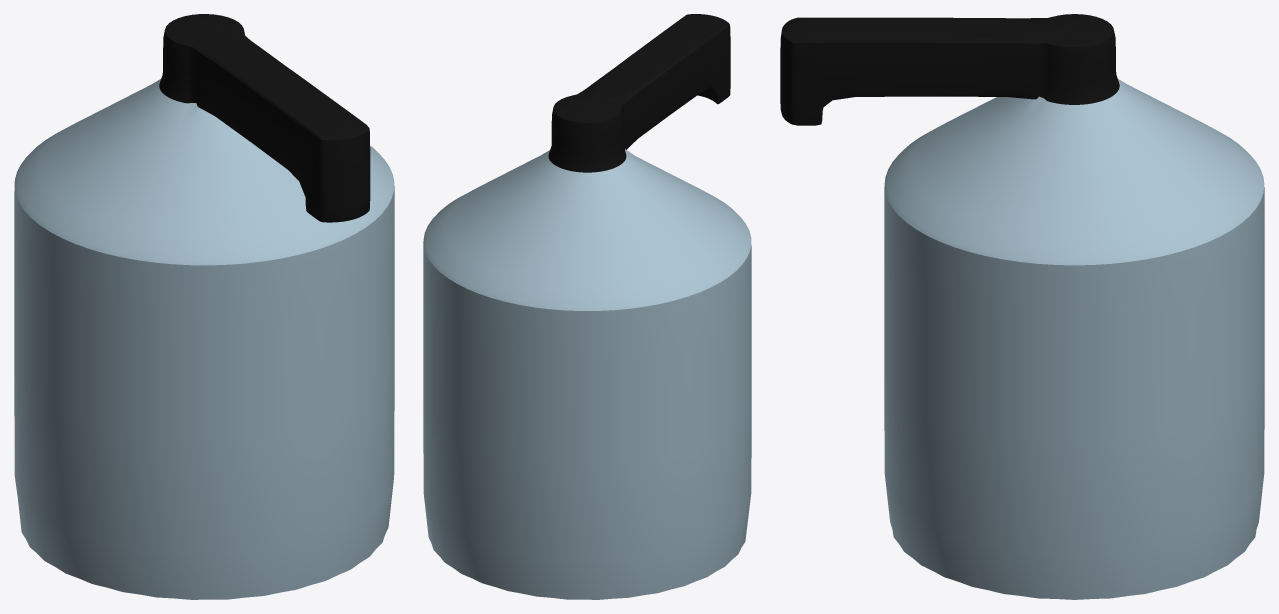
The model's file is lubber.glb.
3 views of the same model, side by side, from view 1: azimuth 30°, elevation 25°; view 2: azimuth 150°, elevation 25°; view 3: azimuth 270°, elevation 25° (orthographic). The views are drawn at different scales.
Visible parts, largest first — view 1: Cylinder.001; view 2: Cylinder.001; view 3: Cylinder.001.
Part boxes in pixels (box(x1,y1,x2,y2)): Cylinder.001: box(14, 14, 394, 599); Cylinder.001: box(423, 14, 751, 599); Cylinder.001: box(780, 14, 1264, 599).
Bounding box in the file's own units: 0.9936 × 1.44 × 1.27.
